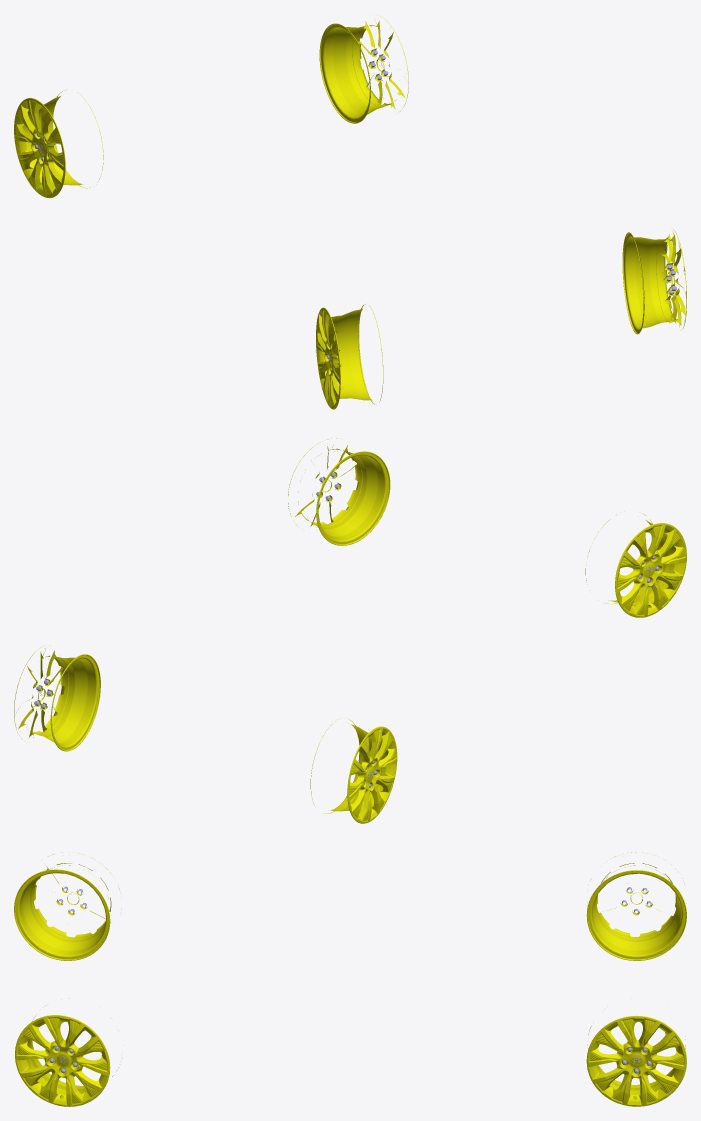
The model's file is TOYOTA_URBAN_CRUISER_EX_HIG_WHEEL_RIM_MESH.glb.
3 views of the same model, one above another, from view 1: azimuth 30°, elevation 25°; view 2: azimuth 150°, elevation 25°; view 3: azimuth 270°, elevation 25° (orthographic). The views are drawn at different scales.
Parts seen in each view (by area): view 1: TOYOTA_URBAN_CRUISER_EX_HIG_WHEEL_RIM_MESH; view 2: TOYOTA_URBAN_CRUISER_EX_HIG_WHEEL_RIM_MESH; view 3: TOYOTA_URBAN_CRUISER_EX_HIG_WHEEL_RIM_MESH.
Part boxes in pixels (bbox=[...]): TOYOTA_URBAN_CRUISER_EX_HIG_WHEEL_RIM_MESH: bbox=[14, 16, 686, 409]; TOYOTA_URBAN_CRUISER_EX_HIG_WHEEL_RIM_MESH: bbox=[14, 438, 686, 823]; TOYOTA_URBAN_CRUISER_EX_HIG_WHEEL_RIM_MESH: bbox=[14, 852, 686, 1106].
Bounding box in the file's own units: 1.83 × 0.441 × 2.96.
